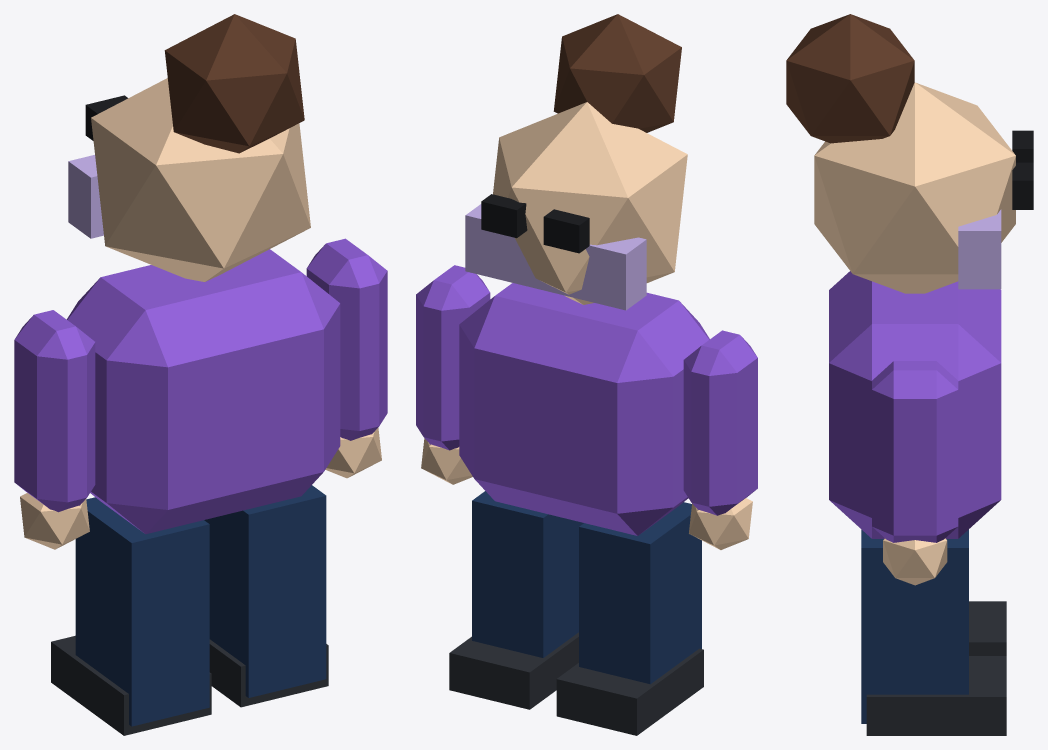
Rendered from mentor.glb.
3 renders of one model, left to right at view 1: azimuth 30°, elevation 25°; view 2: azimuth 150°, elevation 25°; view 3: azimuth 270°, elevation 25°, orthographic. The views are drawn at different scales.
Visible parts, largest first — view 1: Torso, Leg_L, Leg_R, Arm_L, Arm_R; view 2: Torso, Leg_L, Leg_R, Arm_L, Arm_R; view 3: Torso, Leg_R, Arm_R, Leg_L.
Part boxes in pixels (x1=…): Torso: x1=67, y1=14, x2=340, y2=534; Leg_L: x1=51, y1=497, x2=211, y2=735; Leg_R: x1=204, y1=485, x2=328, y2=707; Arm_L: x1=14, y1=310, x2=95, y2=549; Arm_R: x1=306, y1=238, x2=387, y2=478; Torso: x1=459, y1=14, x2=709, y2=535; Leg_L: x1=556, y1=502, x2=703, y2=735; Leg_R: x1=449, y1=491, x2=583, y2=709; Arm_L: x1=683, y1=330, x2=757, y2=549; Arm_R: x1=416, y1=265, x2=490, y2=484; Torso: x1=786, y1=14, x2=1033, y2=538; Leg_R: x1=861, y1=529, x2=1006, y2=735; Arm_R: x1=872, y1=361, x2=958, y2=585; Leg_L: x1=969, y1=601, x2=1006, y2=655.
Bounding box in the file's own units: 0.3626 × 0.69 × 0.2295.
Materials: 1 (1 with a texture image).
